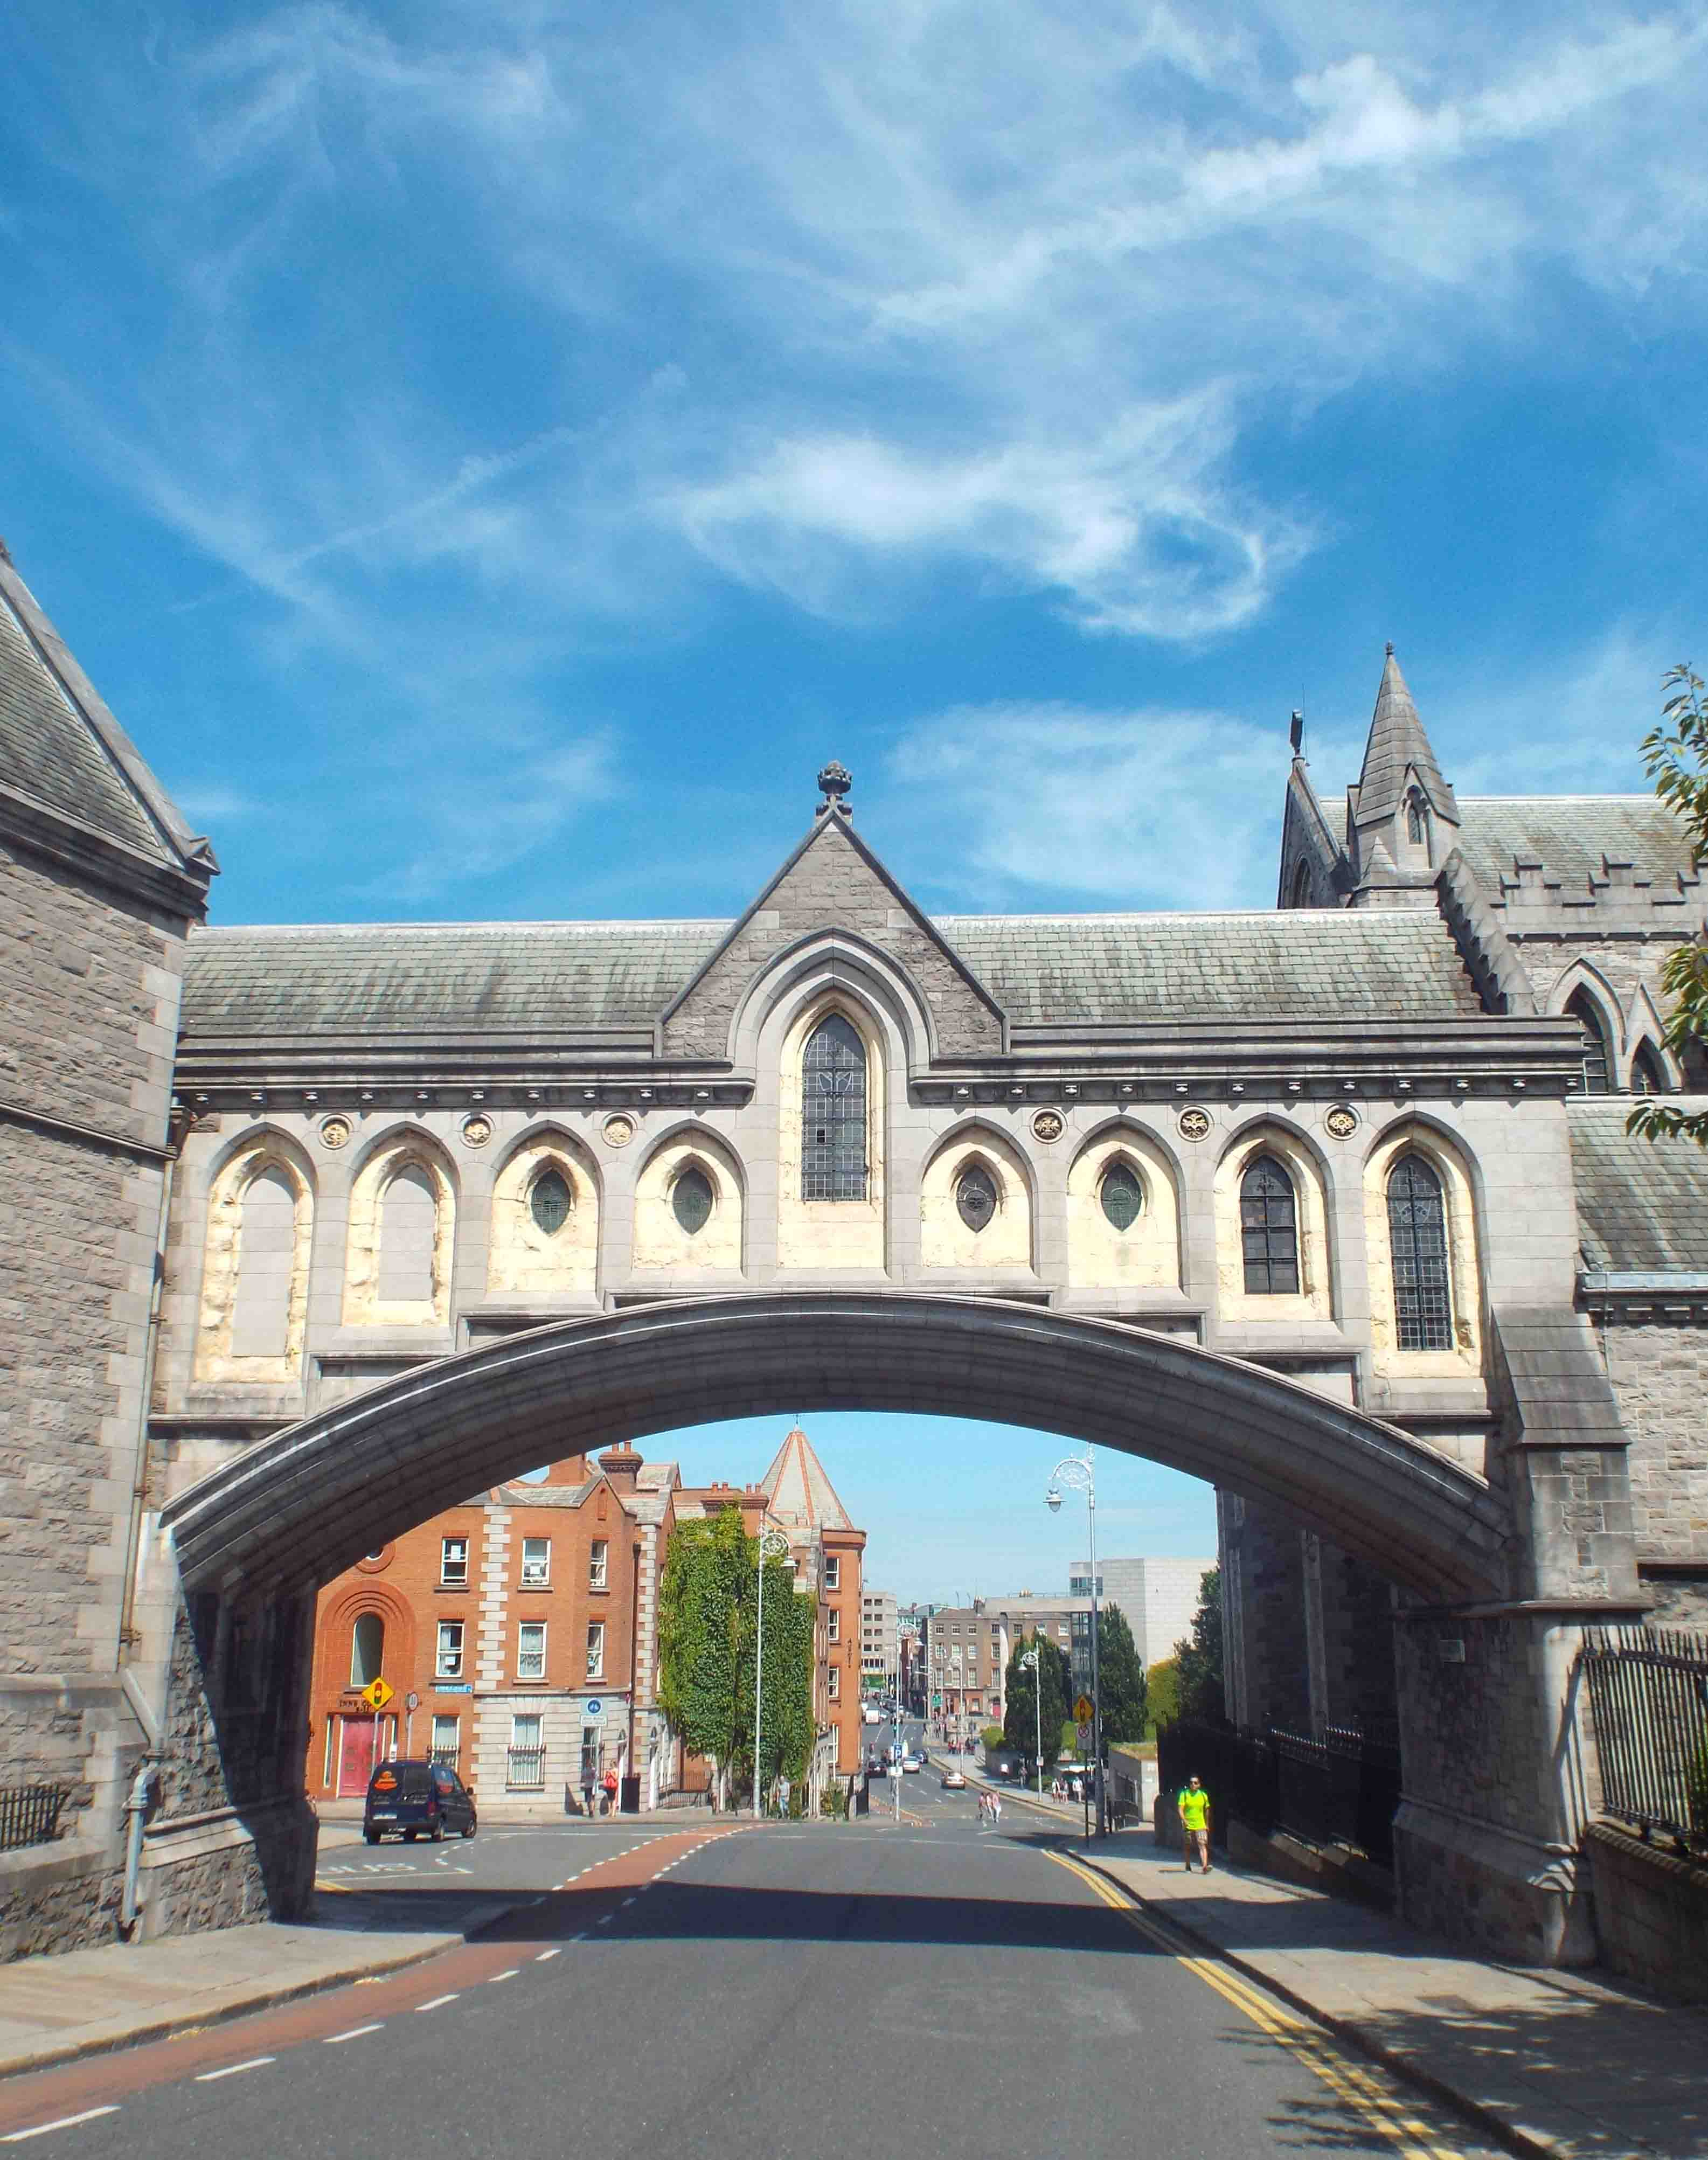bridge: (193, 910, 1541, 1602)
